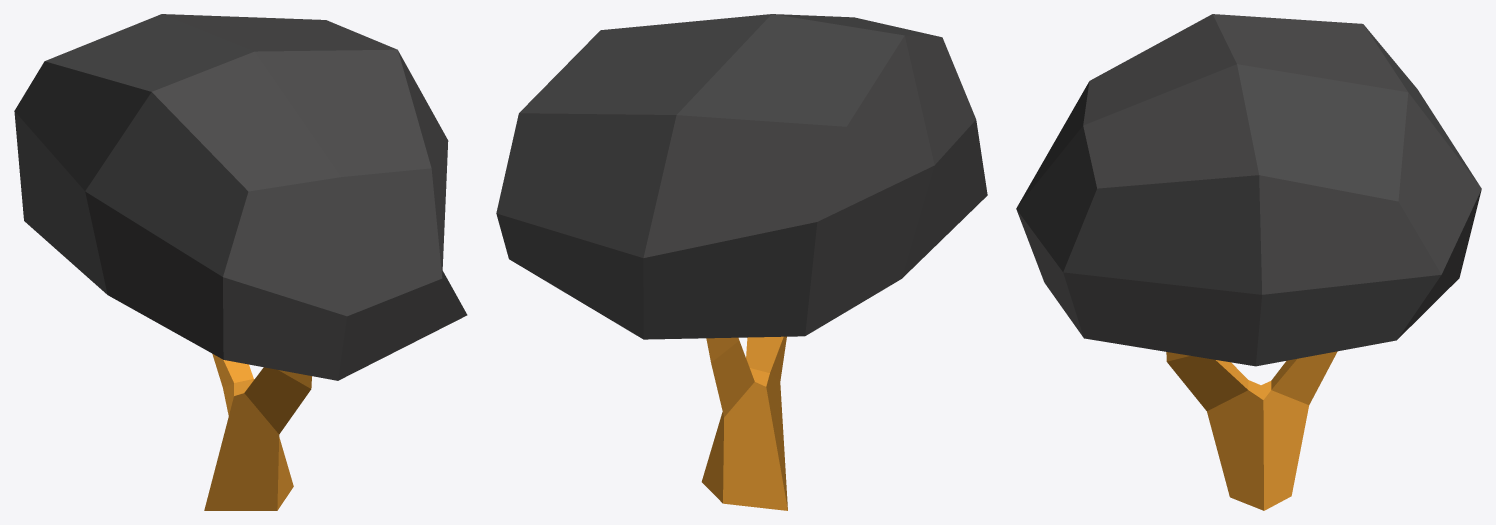
File: bush_3.obj
3 views of the same model, side by side, from view 1: azimuth 30°, elevation 25°; view 2: azimuth 150°, elevation 25°; view 3: azimuth 270°, elevation 25° (orthographic). The views are drawn at different scales.
Parts seen in each view (by area): view 1: bush_3; view 2: bush_3; view 3: bush_3.
Boxes of the visible parts, bbox=[...] form: bush_3: bbox=[14, 14, 467, 510]; bush_3: bbox=[496, 14, 987, 510]; bush_3: bbox=[1016, 14, 1481, 510].
Size of the model in its own units: 5.55 by 6.63 by 6.55.
